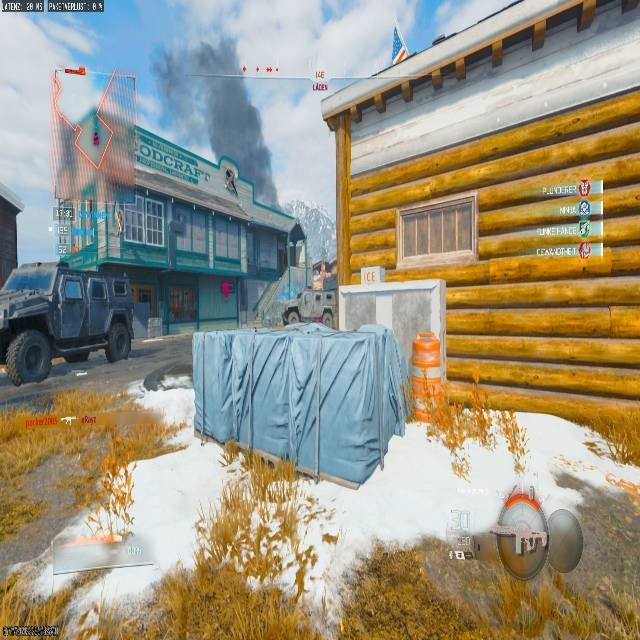player: (280, 259, 339, 328), (279, 302, 303, 327), (223, 168, 236, 195), (320, 306, 334, 326)
